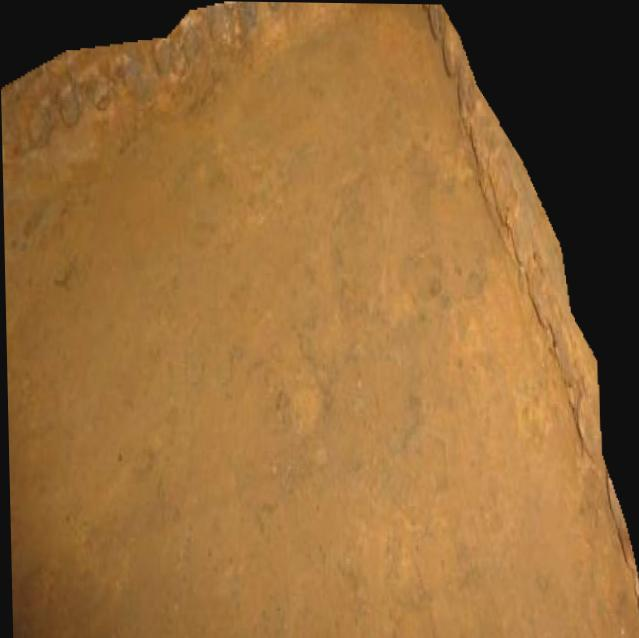Uniform Corrosion: (1, 1, 639, 638)
